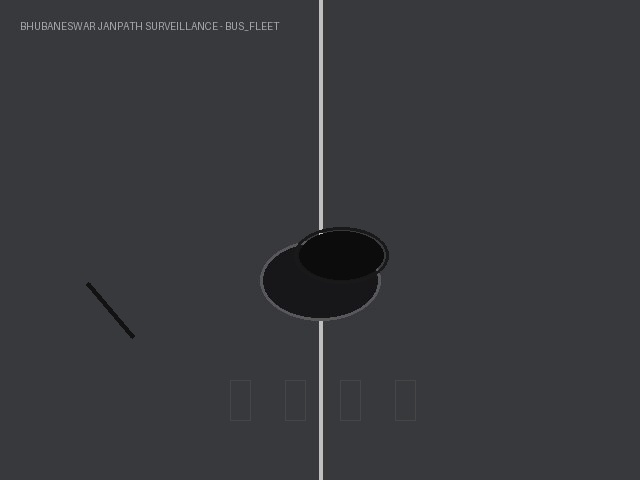crack: (82, 278, 138, 342)
no_zebracrossing: (195, 370, 445, 430)
pothole: (299, 231, 383, 279)
